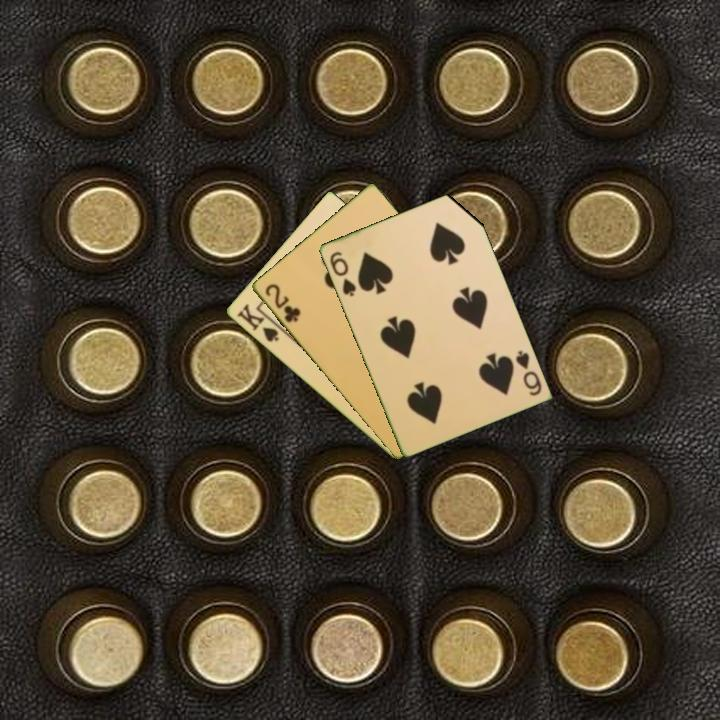2c: (261, 280, 303, 325)
6s: (326, 248, 359, 299), (512, 347, 544, 399)
Ks: (233, 300, 281, 345)
